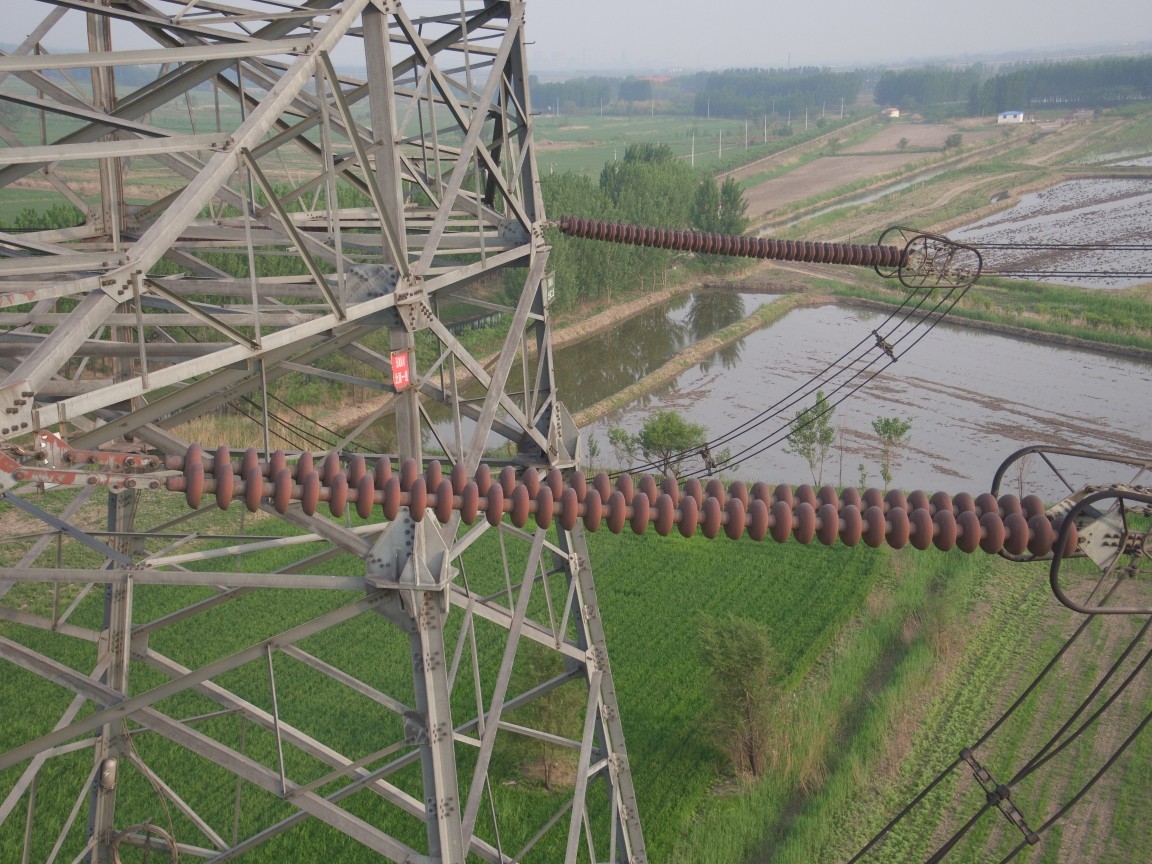insulator: (87, 440, 1094, 566), (549, 210, 915, 270)
